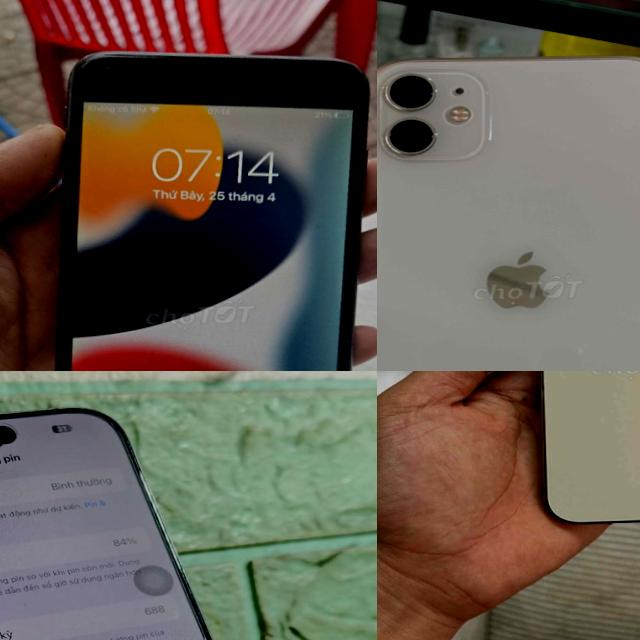gen_11: (377, 47, 640, 371)
gen_14: (520, 371, 640, 531)
gen_15: (0, 391, 332, 640)
gen_7_8: (40, 30, 377, 371)
